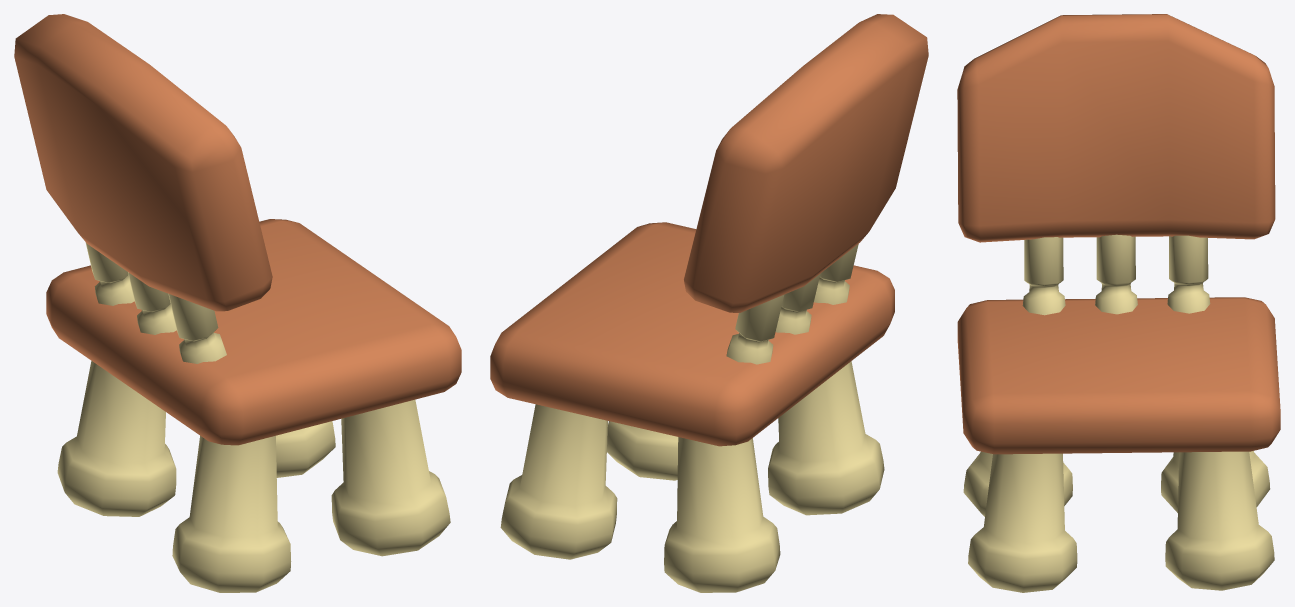
File: SM_Chair.fbx
3 renders of one model, left to right at view 1: azimuth 30°, elevation 25°; view 2: azimuth 150°, elevation 25°; view 3: azimuth 270°, elevation 25°, orthographic. The views are drawn at different scales.
Visible parts, largest first — view 1: Chair; view 2: Chair; view 3: Chair.
Boxes of the visible parts, x1,y1,x2,y2 form: Chair: (14, 14, 461, 592); Chair: (490, 14, 928, 592); Chair: (957, 14, 1280, 592).
Size of the model in its own units: 157 by 238 by 151.
